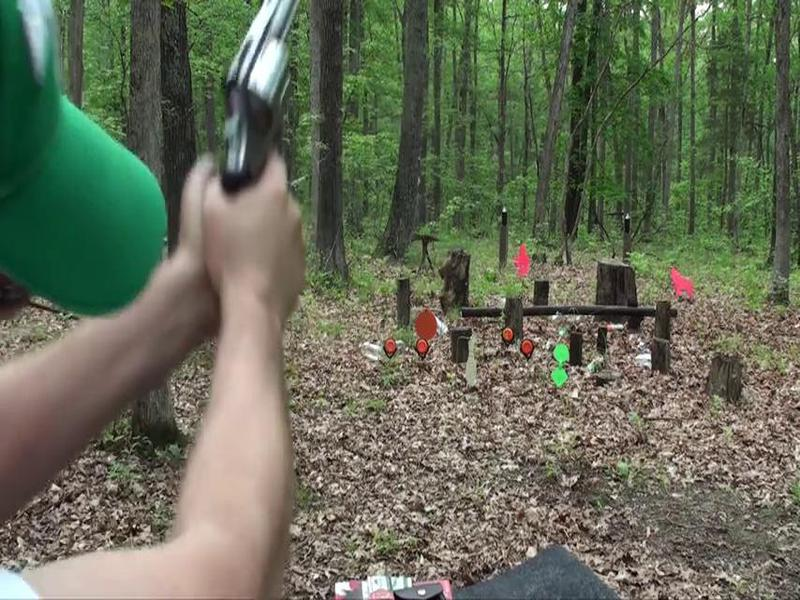Revolver: (180, 1, 388, 266)
